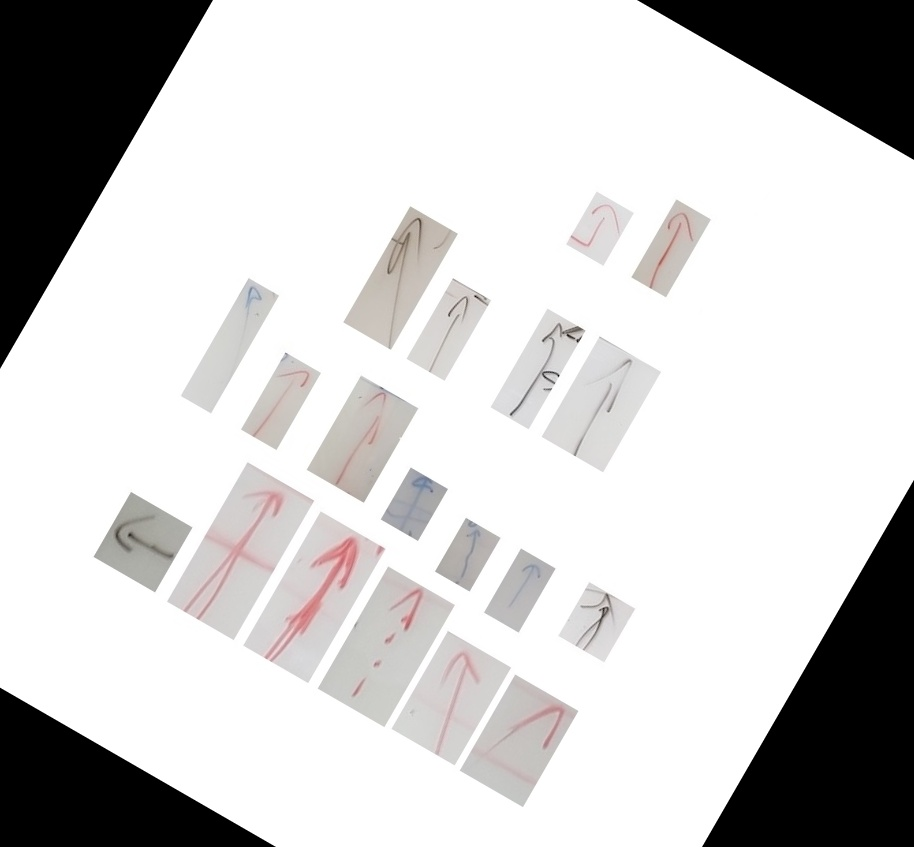arrow: (216, 520, 337, 623), (48, 467, 144, 587), (152, 466, 231, 603), (500, 342, 606, 433), (270, 377, 371, 464), (358, 638, 457, 722), (426, 681, 528, 749), (360, 281, 444, 349), (332, 207, 388, 305), (322, 571, 374, 661), (468, 308, 518, 394), (166, 276, 234, 335), (442, 546, 512, 603), (513, 583, 588, 632), (336, 464, 405, 512), (213, 349, 256, 425), (389, 516, 454, 566), (607, 200, 645, 265), (527, 191, 587, 231)
